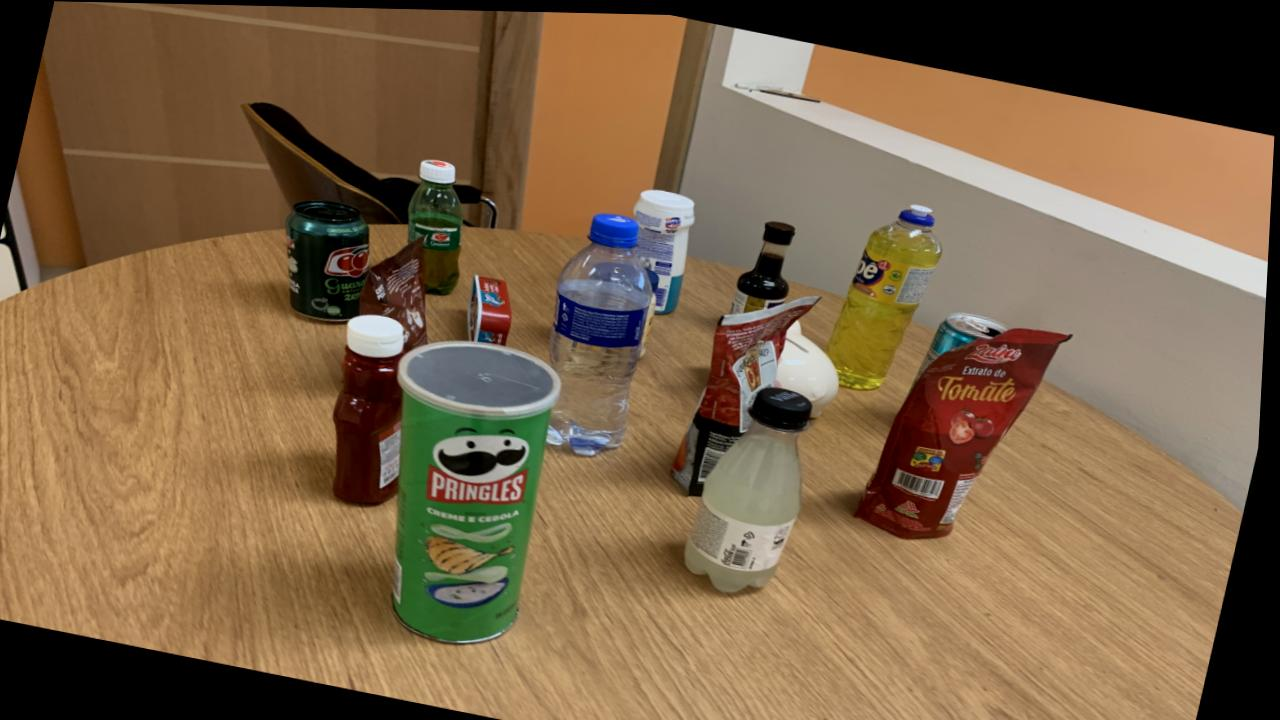Cleaner-Cleanup_Items: (635, 186, 697, 311)
Coffee-Pantry_Items: (361, 237, 432, 349)
Detergent-Cleanup_Items: (829, 200, 944, 386)
English_Sauce-Pantry_Items: (733, 218, 797, 310)
Guarana-Drinks: (409, 157, 465, 292)
Guarana_Can-Drinks: (287, 198, 373, 321)
Ketchup-Pantry_Items: (337, 312, 408, 502)
Pig_Safe-Miscellaneous: (779, 322, 843, 414)
Pringles-Snacks: (398, 338, 565, 640)
Soda-Drinks: (689, 383, 815, 589)
Tea-Drinks: (921, 307, 1013, 373)
Tomato_Sauce-Pantry_Items: (860, 323, 1072, 535), (676, 292, 823, 492)
Tuna_Can-Pantry_Items: (469, 273, 515, 343)
Water_Bottle-Drinks: (550, 210, 656, 452)
